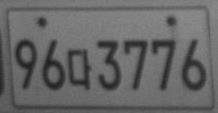3: (97, 39, 121, 90)
6: (181, 39, 207, 91), (41, 40, 65, 90)
7: (151, 39, 176, 89), (123, 40, 147, 89)
9: (14, 38, 37, 89)
다: (67, 47, 92, 90)
